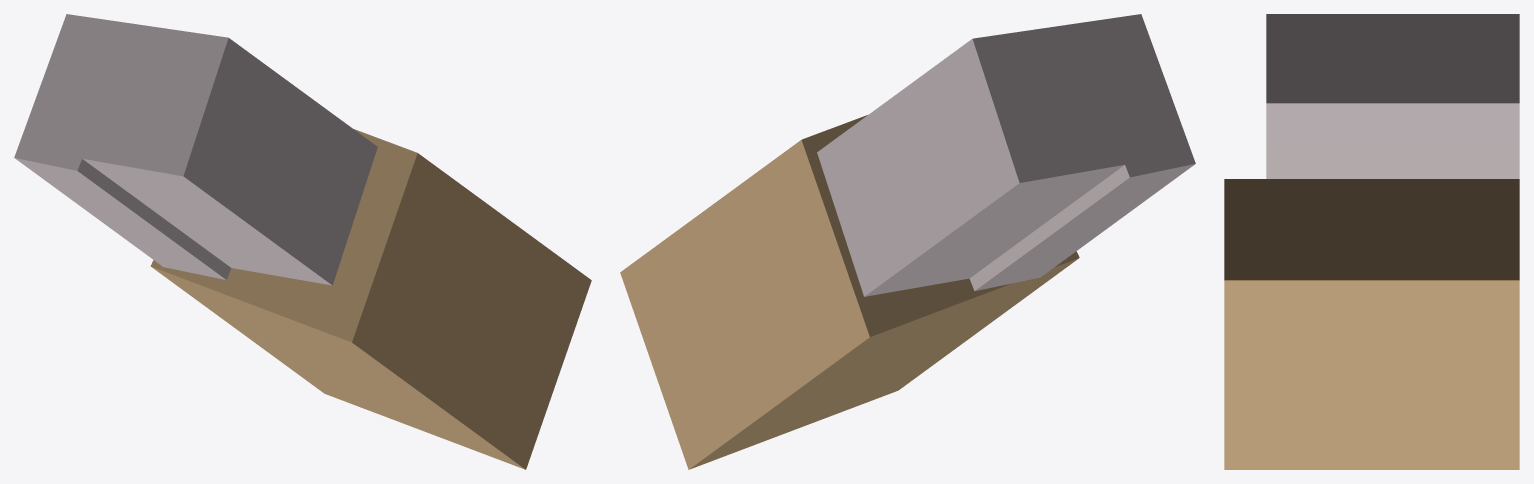
3 renders of one model, left to right at view 1: azimuth 30°, elevation 25°; view 2: azimuth 150°, elevation 25°; view 3: azimuth 270°, elevation 25°, orthographic. The views are drawn at different scales.
Visible parts, largest first — view 1: 0_3_0_1_1_0_2_2_1_0; view 2: 0_3_0_1_1_0_2_2_1_0; view 3: 0_3_0_1_1_0_2_2_1_0.
Boxes of the visible parts, x1,y1,x2,y2 form: 0_3_0_1_1_0_2_2_1_0: (14, 14, 591, 469); 0_3_0_1_1_0_2_2_1_0: (620, 14, 1195, 469); 0_3_0_1_1_0_2_2_1_0: (1224, 14, 1519, 469).
Bounding box in the file's own units: 28.1 × 26.49 × 21.
